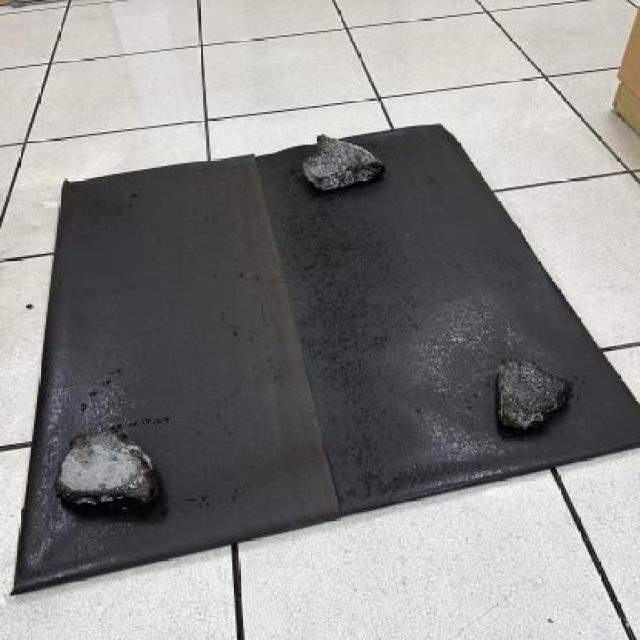Road Debris: (498, 359, 572, 436), (58, 433, 134, 470), (332, 148, 377, 174)
